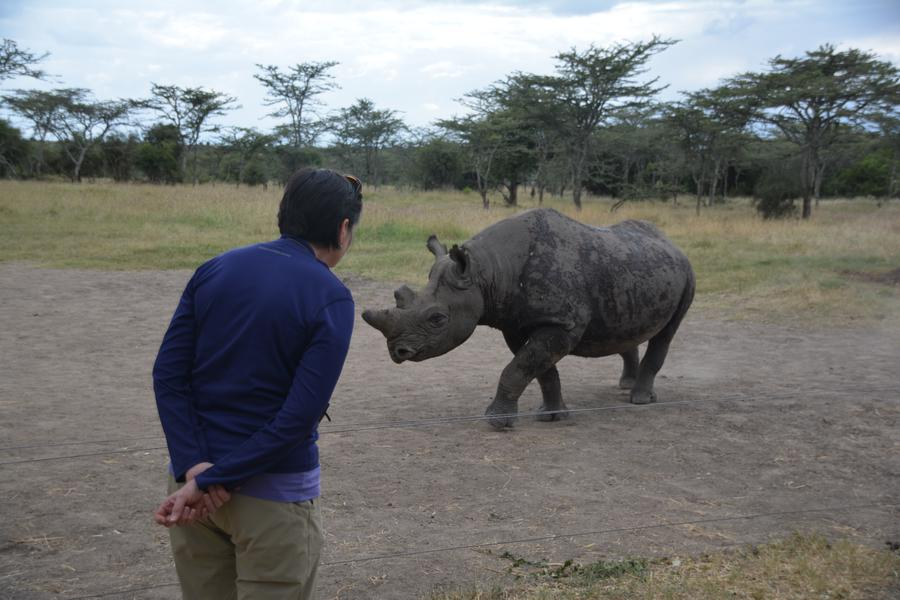rhino: (372, 220, 682, 386)
